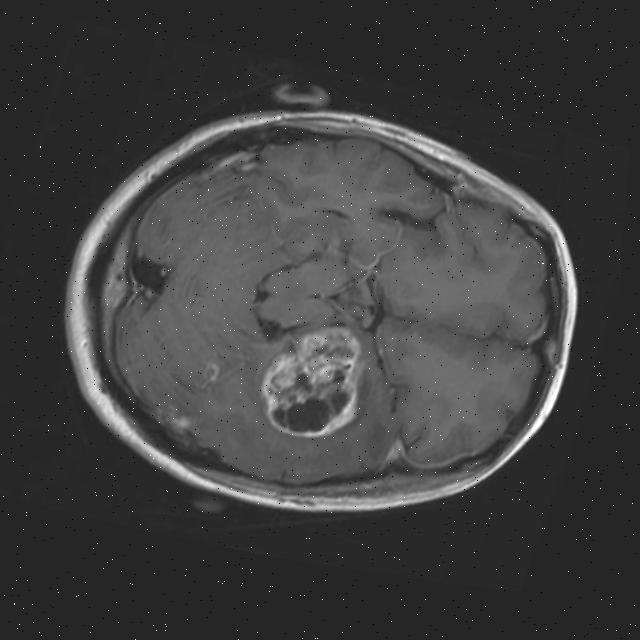Glioma: (245, 310, 382, 449)
